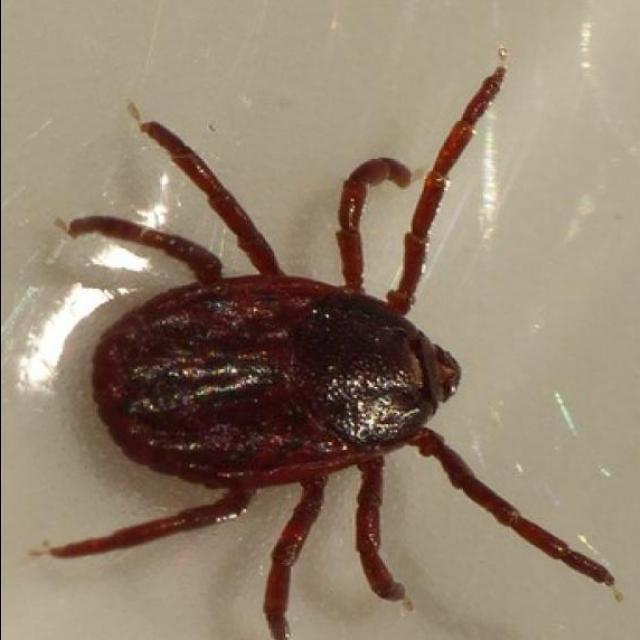Rhipicephalus Sanguineus-F: (41, 63, 611, 640)
